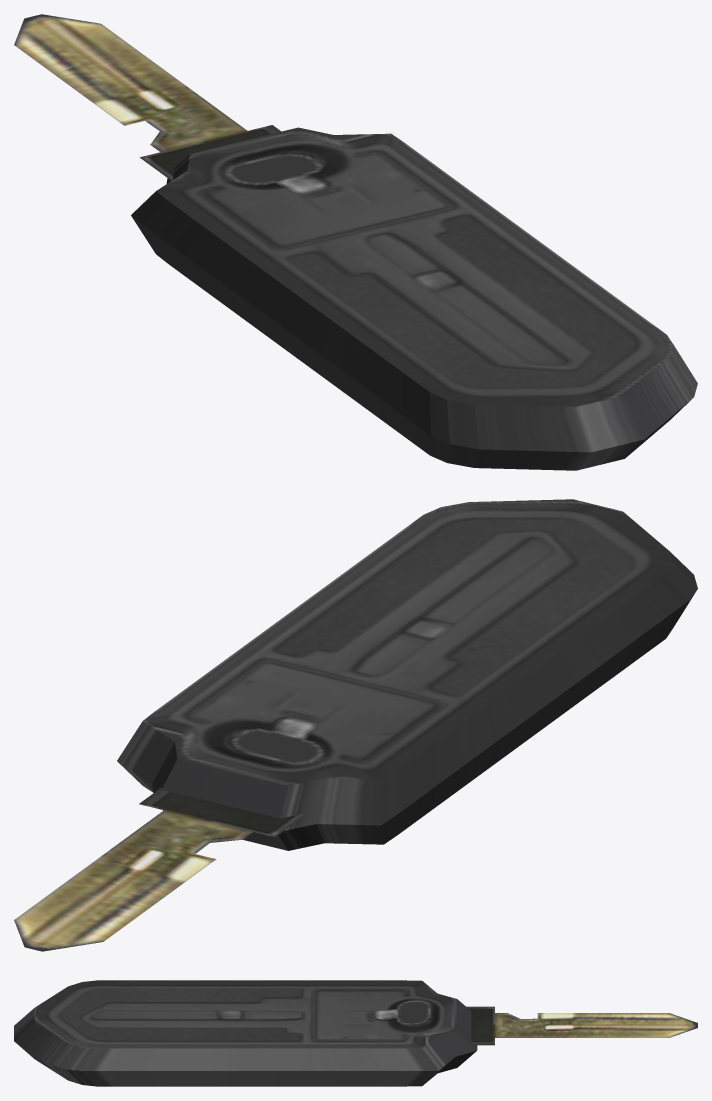
Rendered from key_master.fbx.
3 views of the same model, one above another, from view 1: azimuth 30°, elevation 25°; view 2: azimuth 150°, elevation 25°; view 3: azimuth 270°, elevation 25° (orthographic). The views are drawn at different scales.
Parts seen in each view (by area): view 1: key_master; view 2: key_master; view 3: key_master.
Part boxes in pixels (box(x1,y1,x2,y2)): key_master: box(14, 14, 697, 470); key_master: box(14, 499, 697, 951); key_master: box(14, 980, 697, 1086).
Bounding box in the file's own units: 8.44 × 1.96 × 32.48.
Materials: 1 (1 with a texture image).
